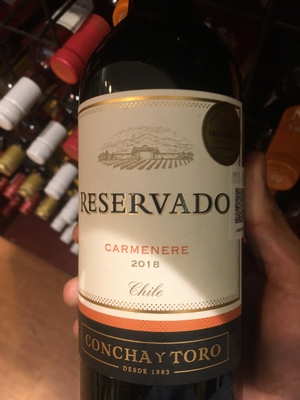reservado carmenere: (75, 3, 243, 377)
